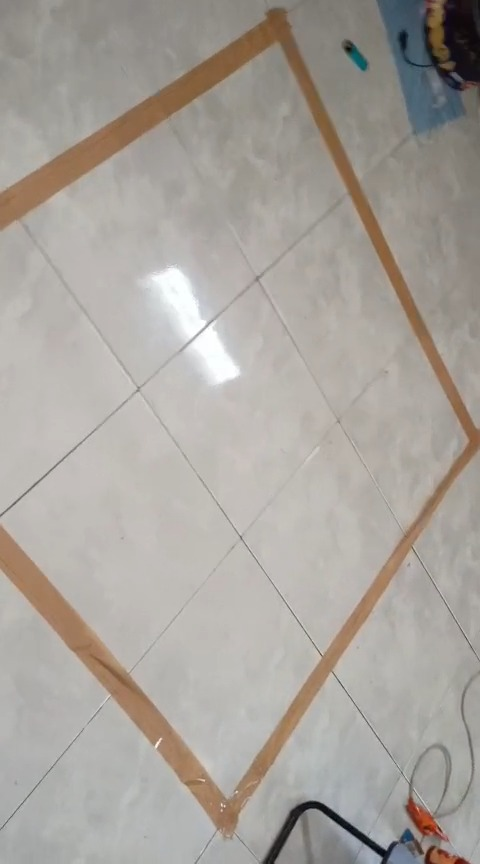floor marking: (0, 9, 479, 831)
